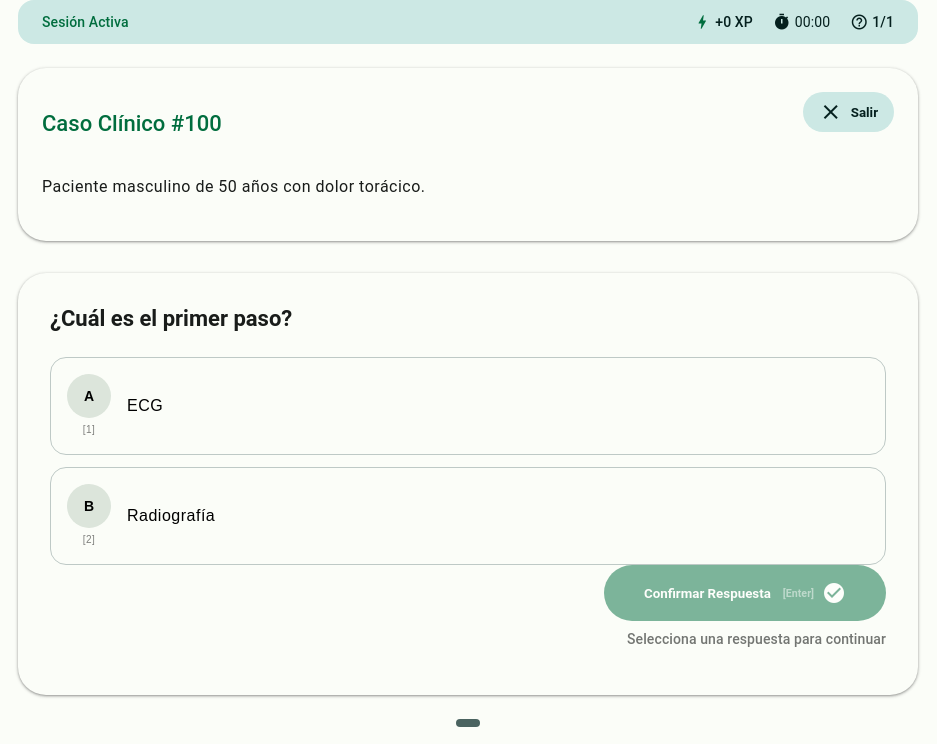
Test: V2Examen › allows selecting an answer
Expected: the text "ECG" is shown, [127,394,163,418]
# Click on the ECG option (Option A) - aria-label uses lowercase
Step 1. Click the button with aria-label "Opción A" → (89, 396), box [50,357,886,455]
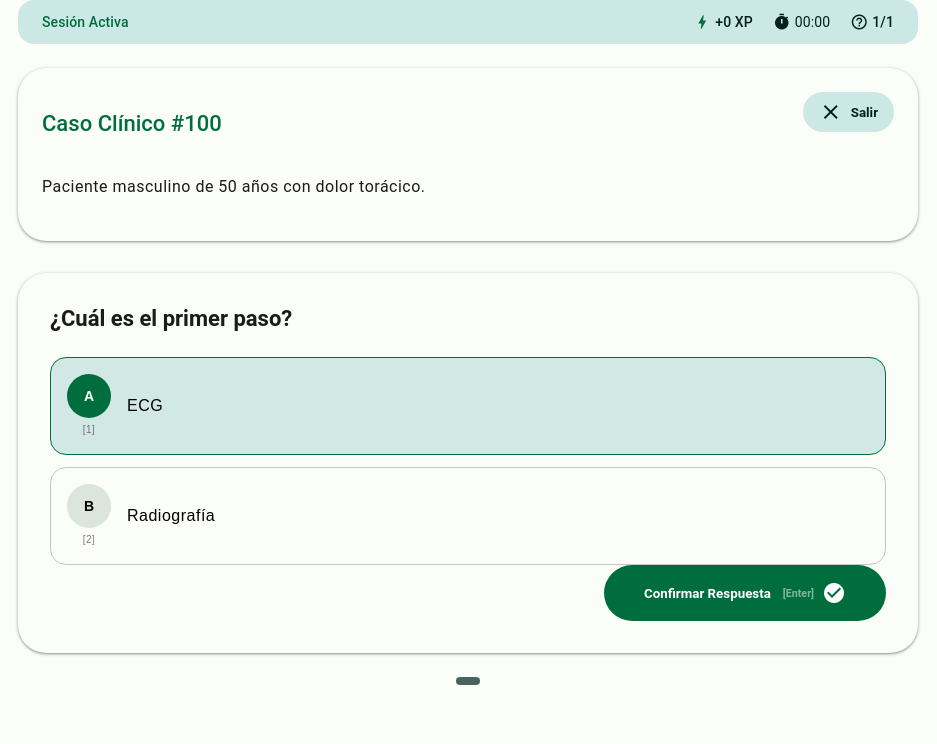
Expected: the button "Confirmar Respuesta [Enter]" is enabled, [604,565,886,621]
